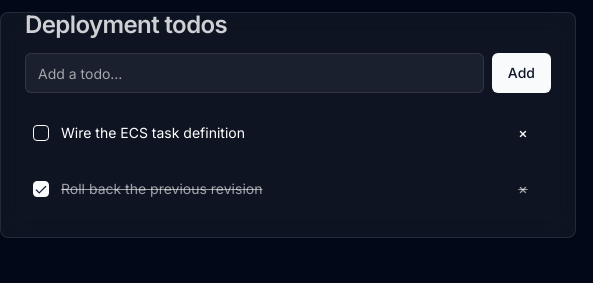
it: TodoPanel › surfaces a failed toggle in an alert and reverts the row
Click the checkbox named "Toggle Wire the ECS task definition" at x=41, y=133, box [33,125,49,141]
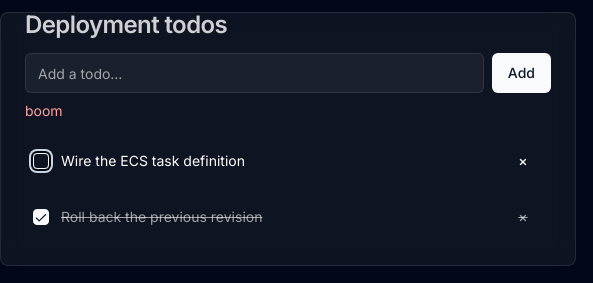
Now the message reads "boom", box [25,102,63,119]
